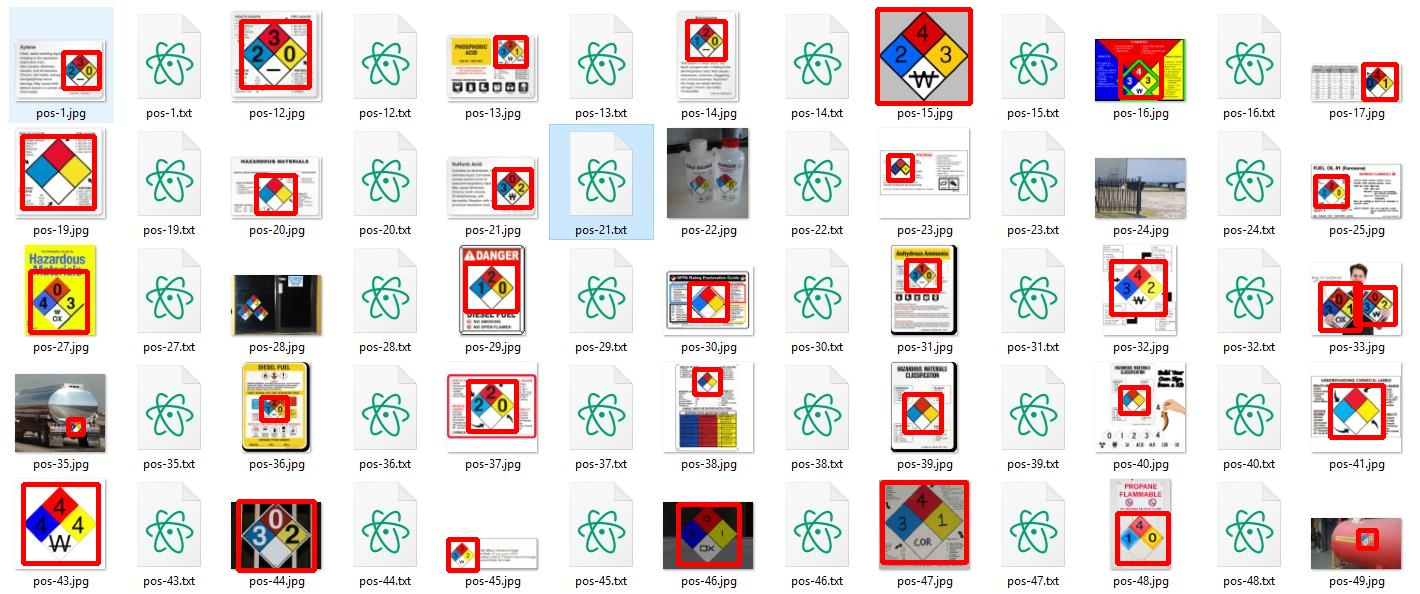nfpa: (877, 9, 970, 103), (882, 482, 966, 562), (23, 484, 98, 563), (238, 501, 314, 570), (22, 136, 94, 208), (241, 21, 309, 87), (678, 504, 739, 564), (30, 271, 87, 332), (1111, 261, 1165, 314), (1330, 385, 1383, 437), (1117, 513, 1168, 563), (465, 263, 517, 311), (468, 381, 516, 431), (1320, 283, 1360, 330), (1120, 57, 1161, 97), (256, 175, 295, 213), (1355, 287, 1395, 324), (687, 21, 725, 59), (494, 169, 531, 207), (689, 283, 727, 320), (904, 394, 941, 432), (63, 52, 99, 88), (1363, 64, 1396, 99), (906, 260, 939, 290), (1315, 176, 1347, 206), (495, 37, 526, 66), (448, 539, 477, 570), (1120, 387, 1148, 413), (694, 369, 720, 394), (888, 155, 912, 180), (261, 397, 287, 420), (1358, 530, 1376, 548), (68, 419, 83, 434)
